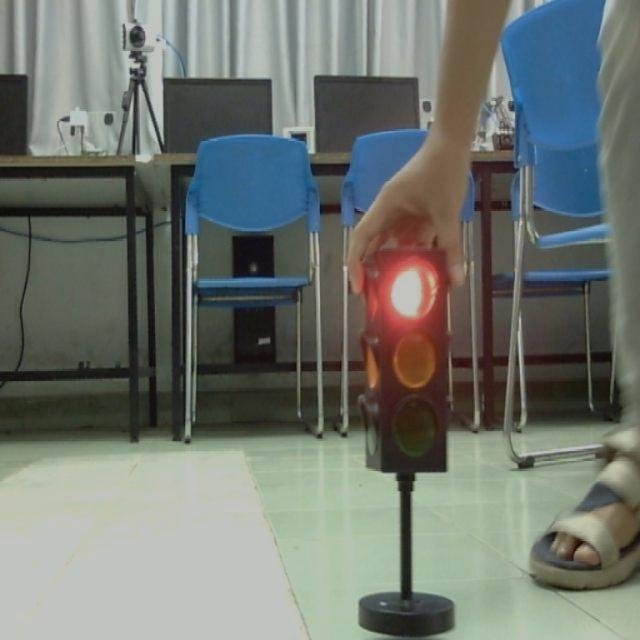Red: (388, 255, 442, 322)
